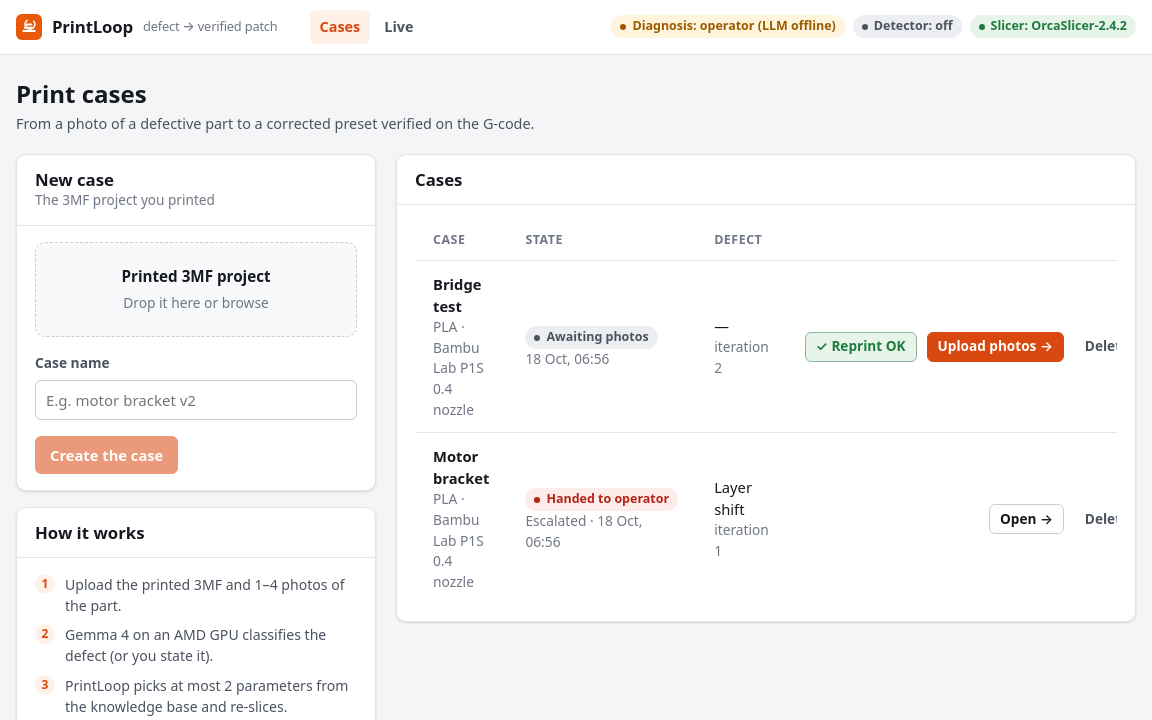
Test: CasesPage › confirms a good reprint from the list
Click the button "✓ Reprint OK". click: (861, 347)
box: [805,332,916,362]
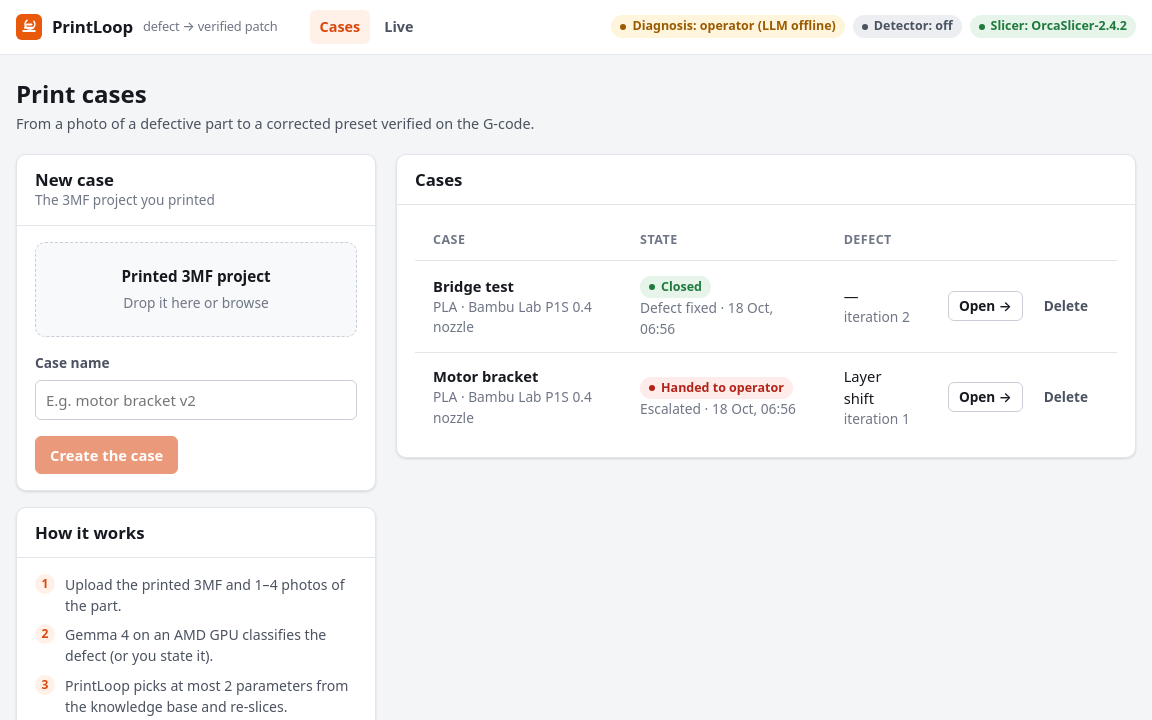
Now the text "Defect fixed · 18 Oct, 06:56" is shown, box [640,298,773,338]
Now the button "✓ Reprint OK" is gone
